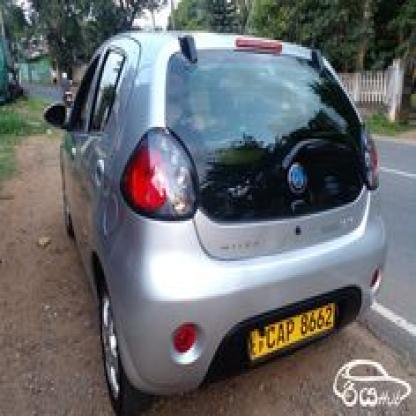car back: (42, 29, 391, 412)
number plate: (248, 298, 338, 362)
